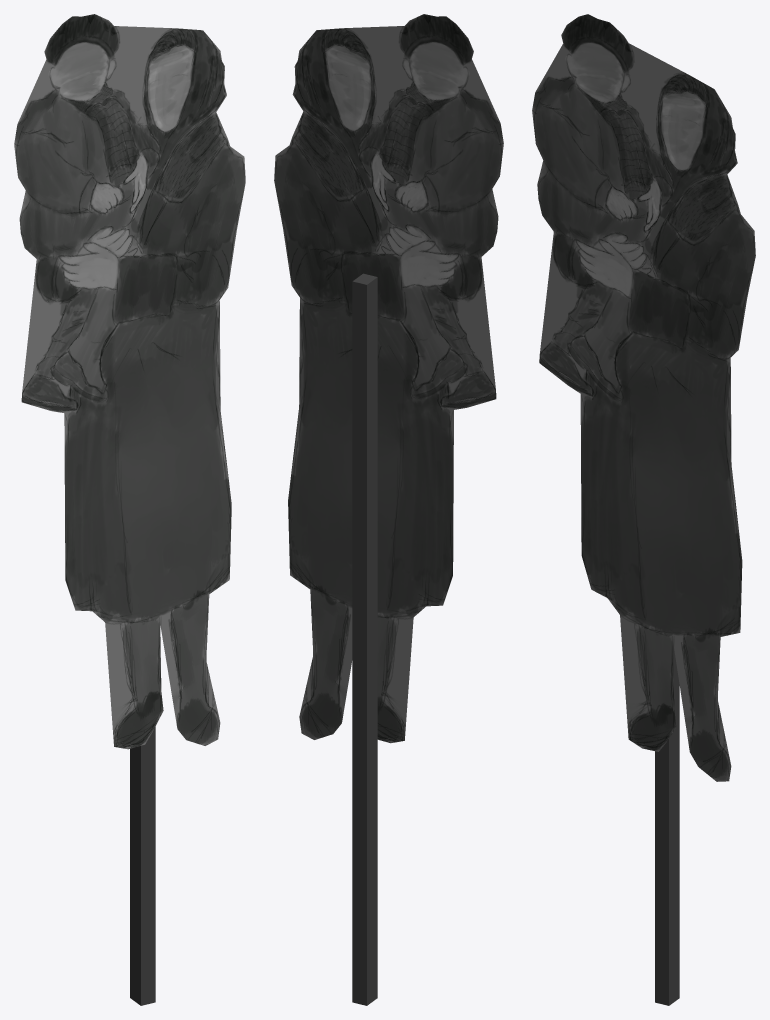
File: Depression_WomanChild.fbx
The picture shows the model from 3 angles, left to right: view 1: azimuth 30°, elevation 25°; view 2: azimuth 150°, elevation 25°; view 3: azimuth 330°, elevation 25°; orthographic projection. The views are drawn at different scales.
Parts seen in each view (by area): view 1: pCube1, pCube2; view 2: pCube1, pCube2; view 3: pCube1, pCube2.
Part boxes in pixels (box(x1,y1,x2,y2)): pCube1: box(14, 14, 245, 749); pCube2: box(130, 726, 155, 1005); pCube1: box(274, 14, 503, 743); pCube2: box(352, 273, 377, 1005); pCube1: box(532, 14, 755, 781); pCube2: box(655, 644, 679, 1005).
Size of the model in its own units: 0.00907 by 0.0377 by 0.00075.
2 materials, 1 textured.
